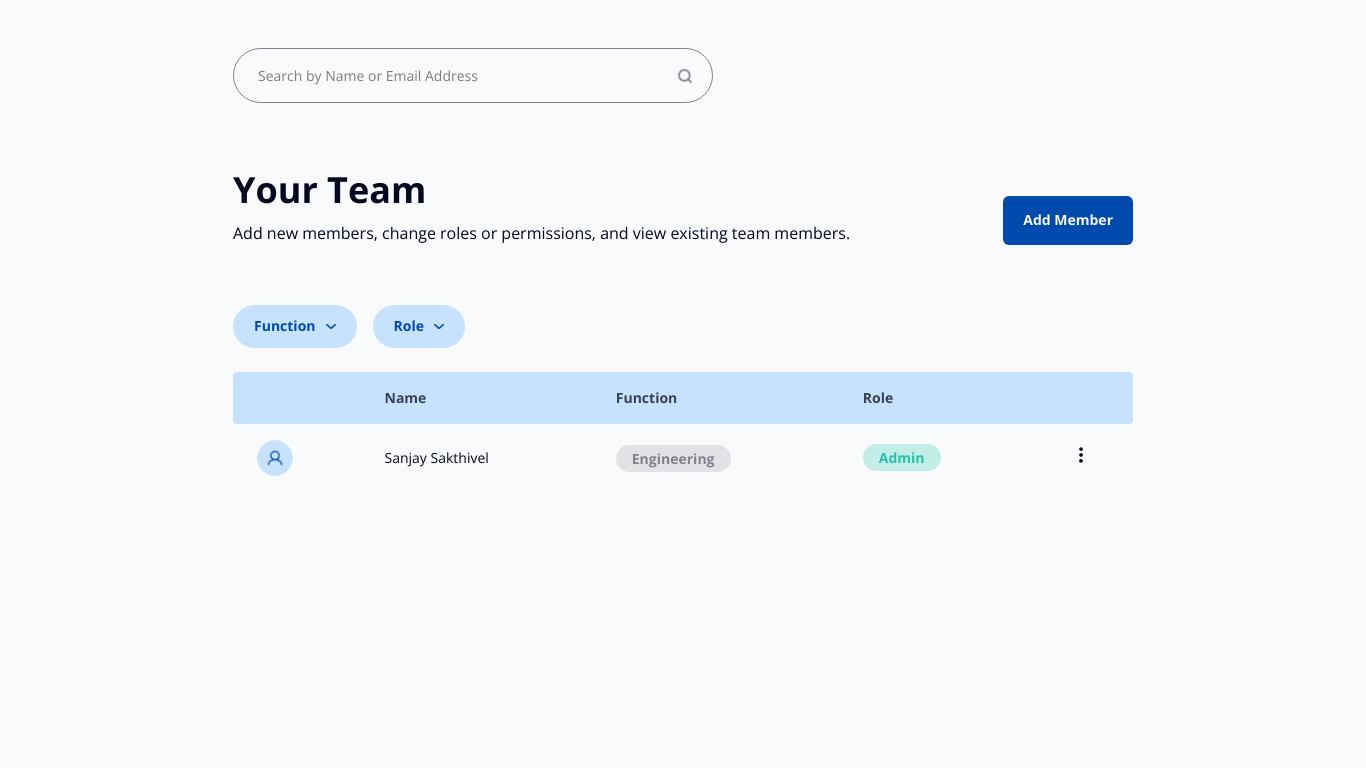
Test: Team Management App › delete flow removes member and shows toast
Expected: the text "Sanjay Sakthivel" is shown, x1=360 y1=424 x2=592 y2=492
Click the button with alt text "trigger".
click(1081, 455)  # box x1=1071 y1=445 x2=1091 y2=465
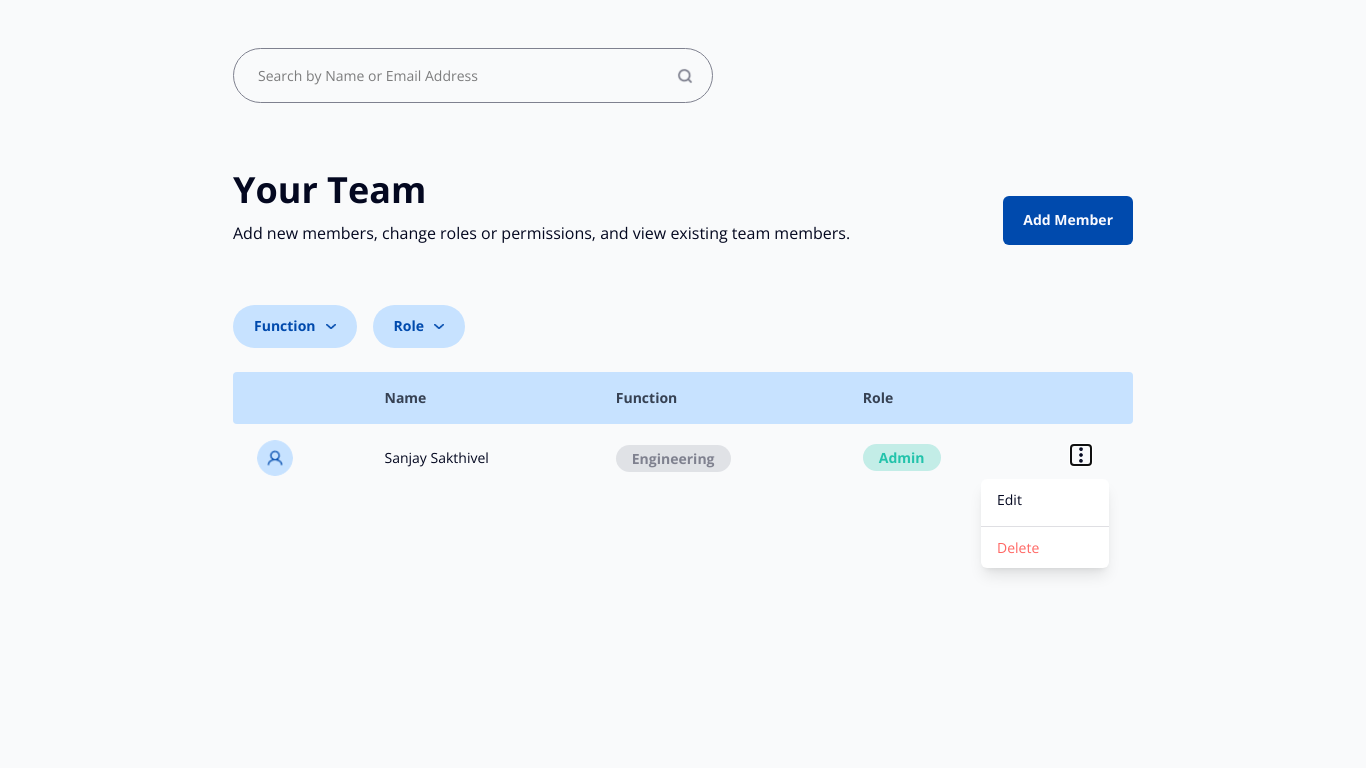
Click the button "Delete".
click(1045, 547)  # box x1=981 y1=531 x2=1109 y2=564
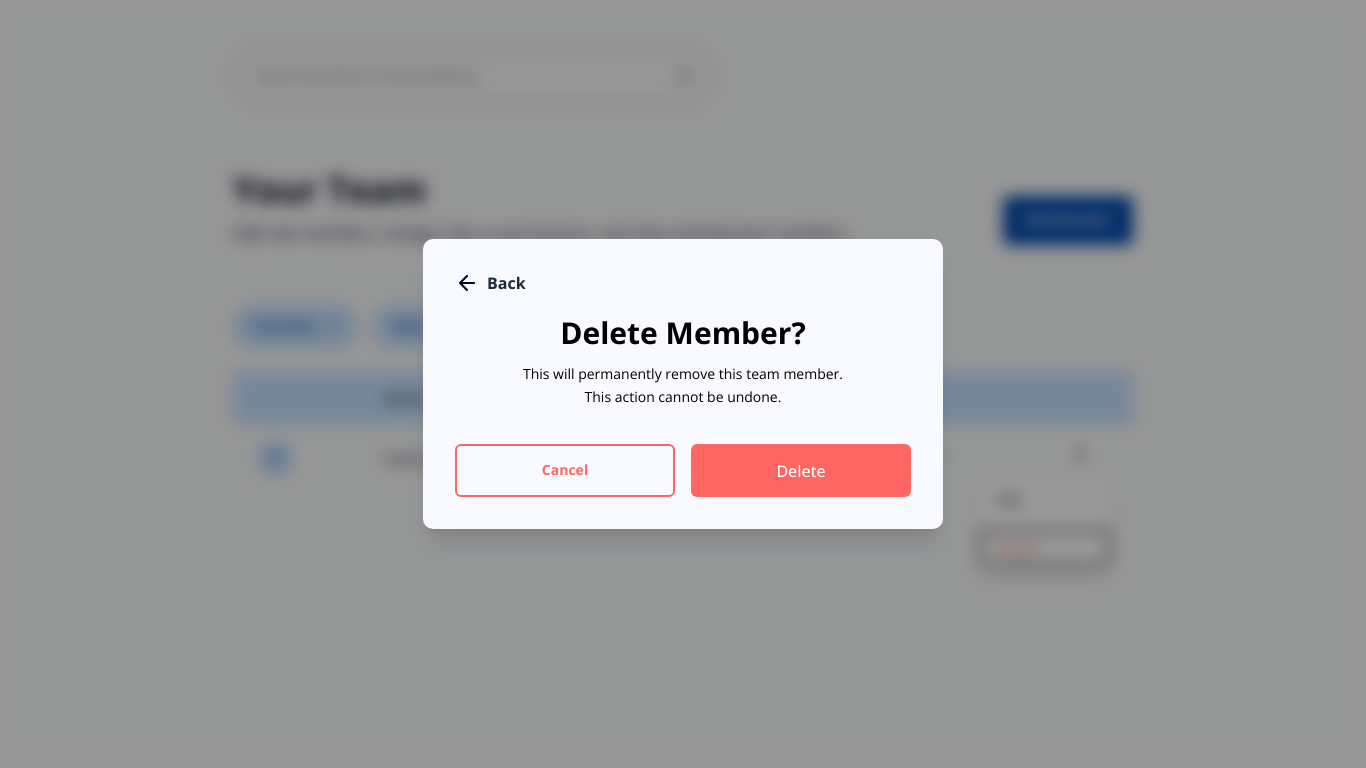
Result: the heading "Delete Member?" is shown at x1=560 y1=312 x2=806 y2=353
Click the button "Delete".
click(801, 471)  # box x1=691 y1=444 x2=911 y2=497
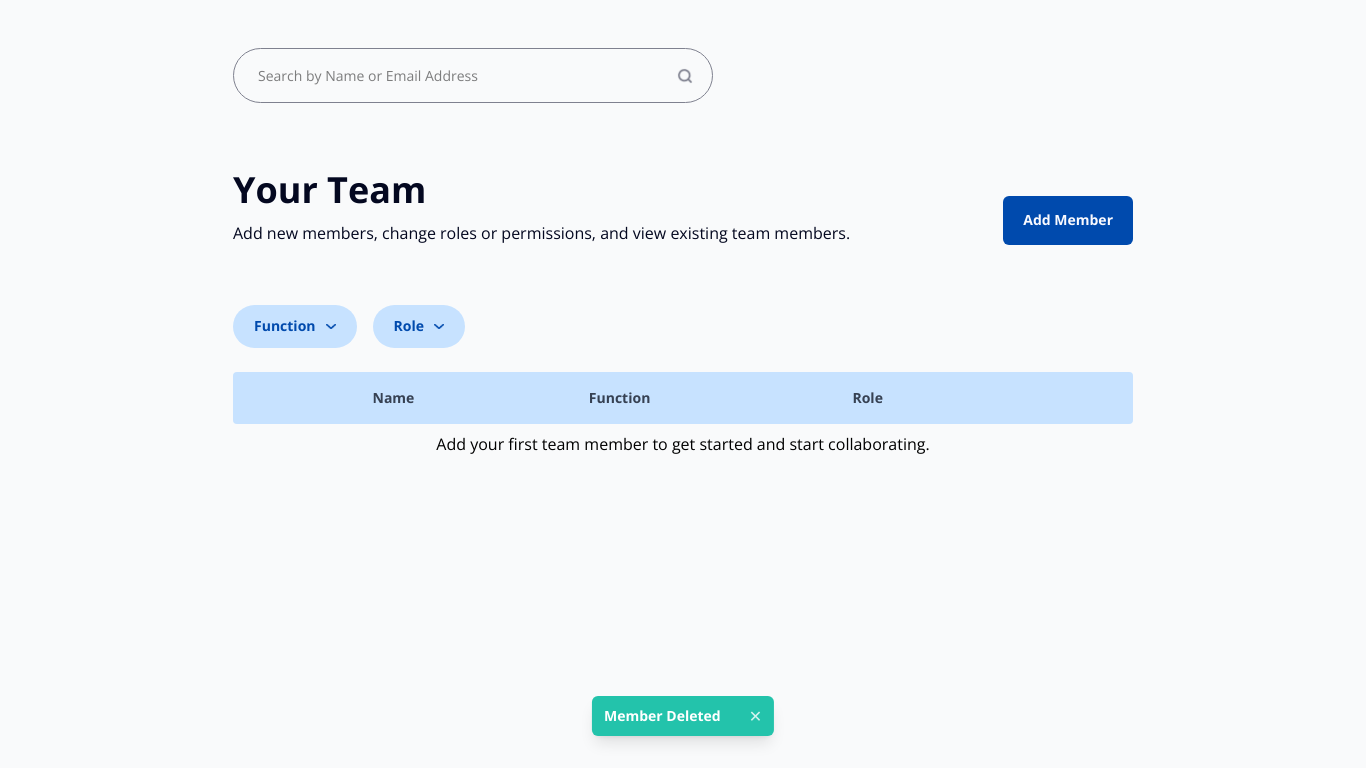
Result: the text "Sanjay Sakthivel" is gone
Result: the text "Member Deleted" is shown at x1=604 y1=706 x2=721 y2=726
